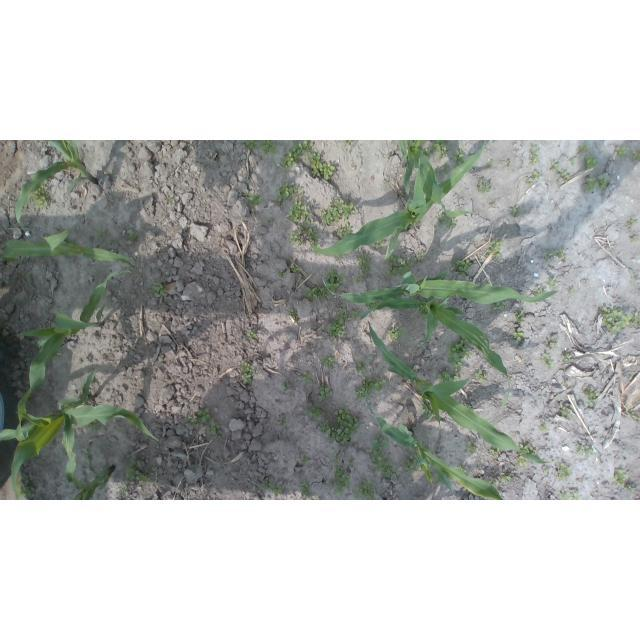Maize: (367, 318, 557, 466), (1, 330, 160, 500), (308, 141, 489, 258), (357, 390, 504, 500), (15, 271, 143, 356), (320, 266, 557, 309), (14, 141, 101, 233), (1, 219, 140, 274), (397, 142, 477, 217), (70, 439, 118, 500)
Weeds: (275, 181, 358, 247), (297, 404, 359, 448), (280, 140, 336, 181), (568, 144, 613, 195), (368, 433, 399, 478), (303, 267, 341, 301), (384, 252, 427, 279), (600, 306, 639, 335), (332, 453, 357, 494), (188, 406, 221, 436), (447, 337, 477, 369), (533, 279, 575, 298), (126, 460, 153, 484), (355, 376, 387, 396), (328, 308, 347, 338), (244, 141, 281, 155), (356, 254, 374, 282), (423, 142, 450, 160), (548, 161, 568, 184), (31, 186, 50, 210), (517, 444, 536, 468), (356, 480, 377, 501), (514, 311, 527, 343), (438, 369, 463, 385), (453, 257, 475, 273), (241, 364, 256, 387), (543, 249, 567, 263), (264, 479, 283, 496), (612, 467, 628, 487), (241, 193, 261, 208), (489, 474, 511, 487), (583, 386, 597, 406), (488, 240, 502, 260), (298, 483, 314, 500), (524, 170, 540, 187), (403, 457, 418, 475), (545, 336, 560, 354), (557, 462, 571, 481), (387, 328, 407, 341), (542, 354, 555, 374), (474, 370, 488, 387), (528, 144, 539, 165), (320, 356, 334, 371), (477, 178, 491, 193), (491, 299, 507, 312), (318, 384, 331, 400), (578, 444, 594, 457), (556, 491, 579, 500), (152, 281, 166, 295), (452, 150, 465, 164), (560, 406, 573, 420), (537, 419, 550, 433), (466, 440, 479, 454), (126, 227, 142, 238), (436, 165, 452, 176), (614, 146, 627, 159), (348, 310, 361, 322), (288, 309, 299, 323), (628, 269, 636, 287), (302, 372, 313, 385), (489, 448, 502, 458), (119, 482, 128, 496), (561, 354, 572, 365), (274, 269, 287, 278), (510, 207, 521, 217), (283, 381, 293, 392), (544, 466, 554, 477), (630, 411, 640, 422), (627, 218, 637, 229), (247, 330, 256, 341), (632, 151, 640, 162), (630, 234, 639, 243), (302, 454, 310, 463), (278, 416, 285, 426), (168, 195, 176, 203), (291, 265, 300, 272), (629, 487, 638, 494)
